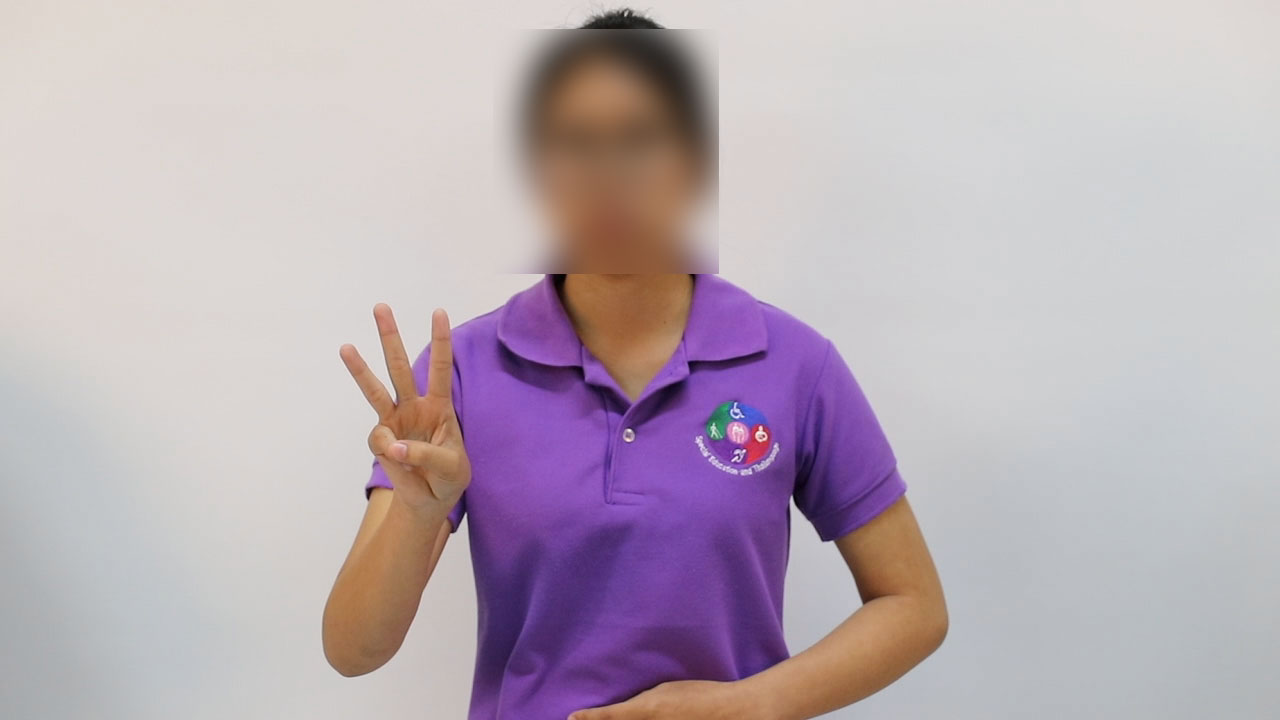wor: (330, 297, 477, 538)
